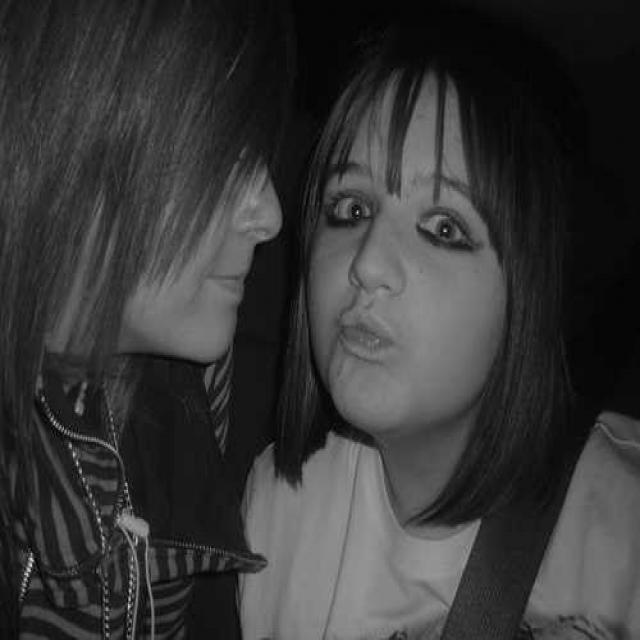seatbelt: (428, 372, 598, 625)
